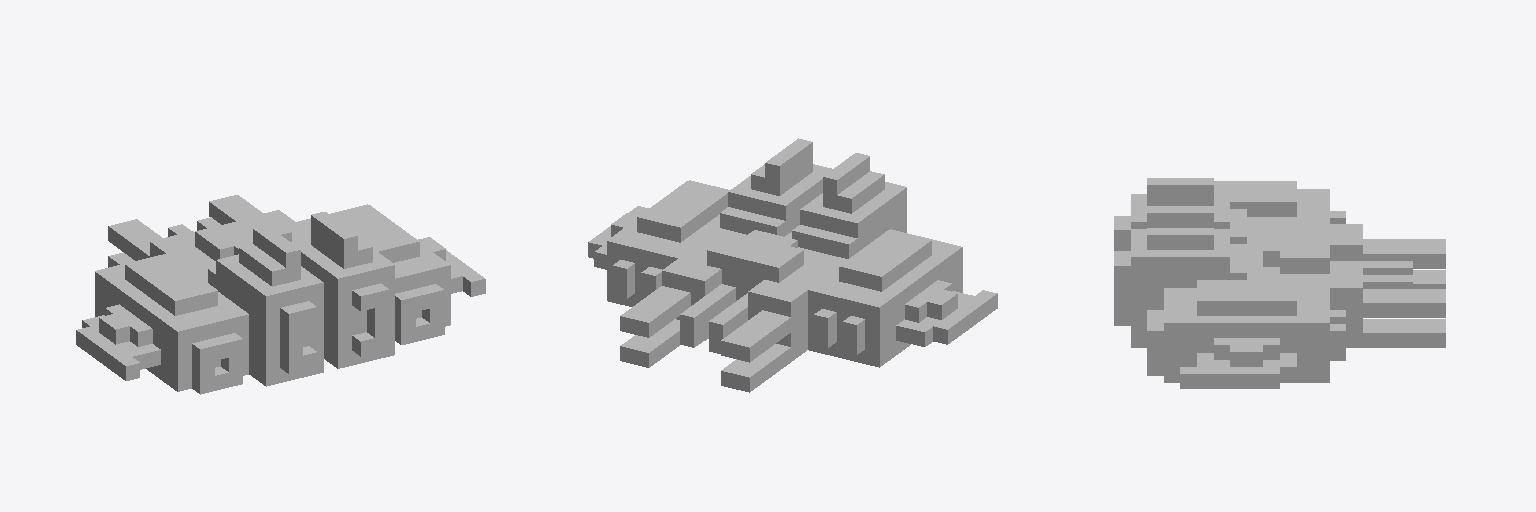
The model's file is Enemy2.1 1.obj.
The picture shows the model from 3 angles: view 1: azimuth 30°, elevation 25°; view 2: azimuth 150°, elevation 25°; view 3: azimuth 270°, elevation 25°; orthographic projection.
Bounding box in the file's own units: 25 × 8 × 20.